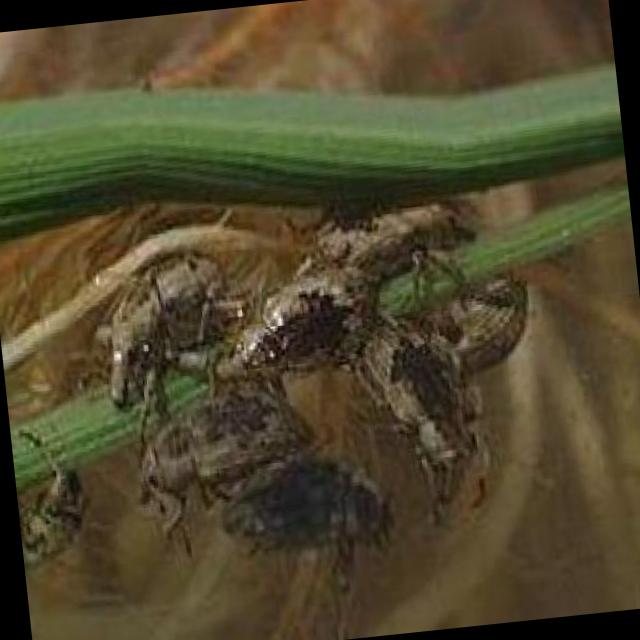rice-bug: (85, 184, 537, 557), (13, 454, 87, 566)
